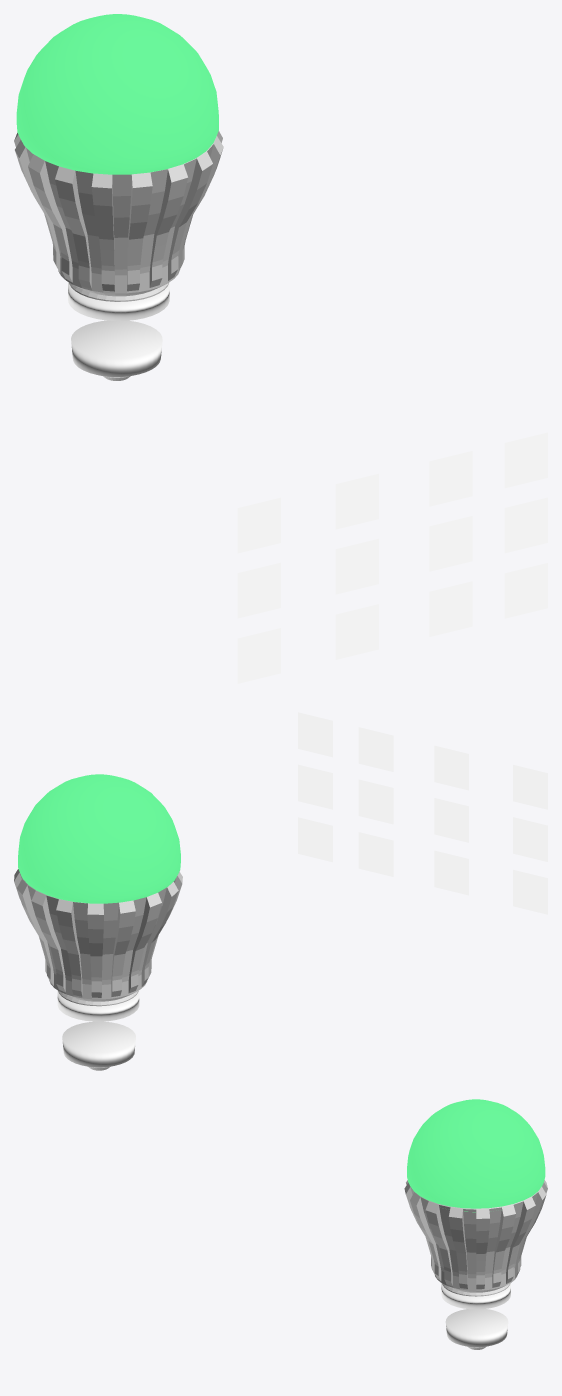
The model's file is KORTE_green.glb.
3 renders of one model, top to bottom at view 1: azimuth 30°, elevation 25°; view 2: azimuth 150°, elevation 25°; view 3: azimuth 270°, elevation 25°, orthographic. The views are drawn at different scales.
Visible parts, largest first — view 1: Sphere, Cylinder, Cylinder.003, Cylinder.002, Plane.004, Plane.013, Plane.011, Plane.010, Plane.009, Plane.008, Plane.007, Plane.006 (+5 smaller); view 2: Sphere, Cylinder, Cylinder.003, Cylinder.002, Plane.008, Plane.011, Plane.003, Plane.013, Plane.012, Plane.010, Plane.009, Plane.004 (+5 smaller); view 3: Sphere, Cylinder, Cylinder.003, Cylinder.002, Cylinder.001.
Boxes of the visible parts, left/top/right/bottom form: Sphere: left=16, top=14, right=218, bottom=174; Cylinder: left=14, top=130, right=223, bottom=291; Cylinder.003: left=71, top=320, right=162, bottom=377; Cylinder.002: left=68, top=282, right=169, bottom=320; Plane.004: left=335, top=473, right=378, bottom=529; Plane.013: left=237, top=628, right=280, bottom=683; Plane.011: left=429, top=581, right=472, bottom=636; Plane.010: left=504, top=563, right=547, bottom=618; Plane.009: left=504, top=497, right=547, bottom=553; Plane.008: left=429, top=516, right=472, bottom=571; Plane.007: left=335, top=538, right=378, bottom=594; Plane.006: left=237, top=562, right=280, bottom=618; Sphere: left=18, top=774, right=180, bottom=903; Cylinder: left=14, top=869, right=182, bottom=997; Cylinder.003: left=62, top=1021, right=135, bottom=1067; Cylinder.002: left=57, top=990, right=139, bottom=1021; Plane.008: left=358, top=779, right=393, bottom=824; Plane.011: left=358, top=832, right=393, bottom=876; Plane.003: left=358, top=727, right=393, bottom=771; Plane.013: left=513, top=869, right=547, bottom=914; Plane.012: left=434, top=850, right=468, bottom=895; Plane.010: left=298, top=817, right=332, bottom=862; Plane.009: left=298, top=764, right=332, bottom=809; Plane.004: left=434, top=745, right=468, bottom=790; Sphere: left=407, top=1099, right=545, bottom=1212; Cylinder: left=404, top=1180, right=547, bottom=1289; Cylinder.003: left=445, top=1309, right=508, bottom=1347; Cylinder.002: left=441, top=1283, right=510, bottom=1309; Cylinder.001: left=435, top=1275, right=517, bottom=1296.
Size of what is drawn, in the model's own units: 14.32 by 15.83 by 31.21.
